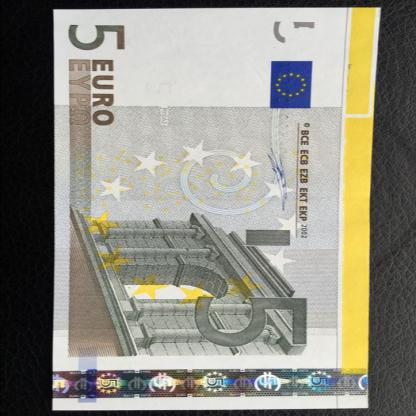euro_banknote: (18, 44, 415, 370)
